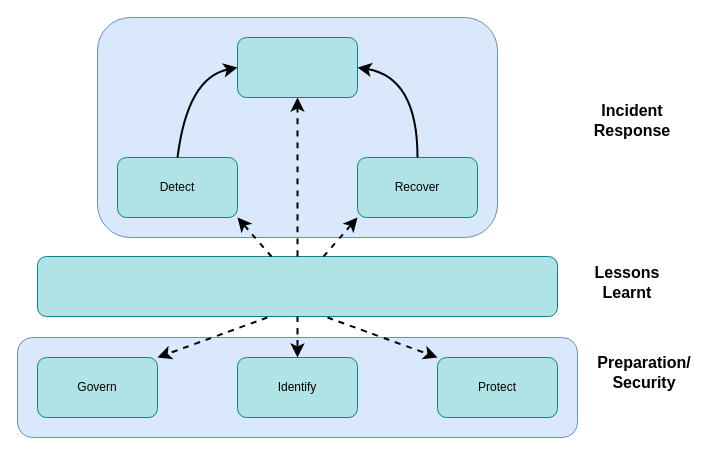
Image size: 708x455. Some labels were removed from this diagram. The shapes that lost their labels are listed below. From the top down, each one's centre as x and y in pixels, then its label:
the point at 297,67: Respond
the point at 297,286: Identify (Improve)
